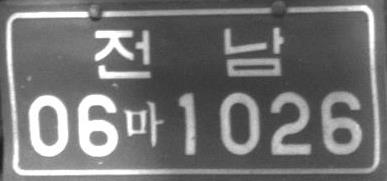0: (27, 93, 70, 157), (218, 91, 261, 155)
1: (170, 91, 208, 155)
2: (269, 90, 312, 156)
6: (319, 89, 362, 155), (76, 93, 119, 158)
마: (123, 100, 164, 146)
전남_D: (92, 27, 284, 78)
